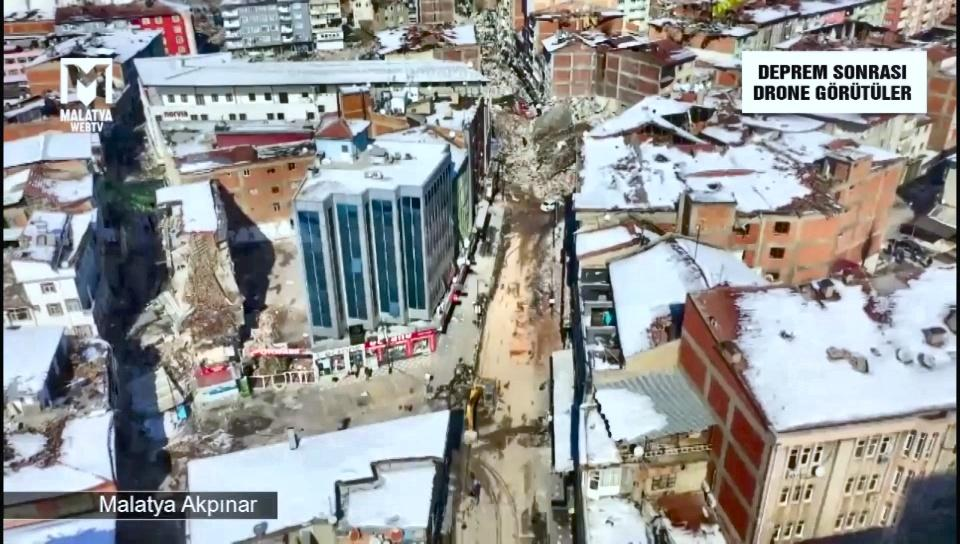kapali: (492, 99, 558, 226), (472, 15, 530, 99)
